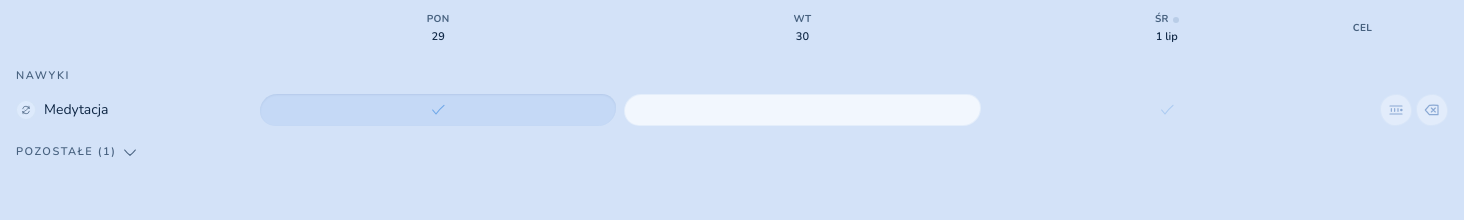
it: AssignmentMatrix › collapsible section starts collapsed and toggles open
Check: the text "Spacer" is not shown
Click the button with test id "matrix-section-rest" at (66, 152), box [12,140,1452,164]
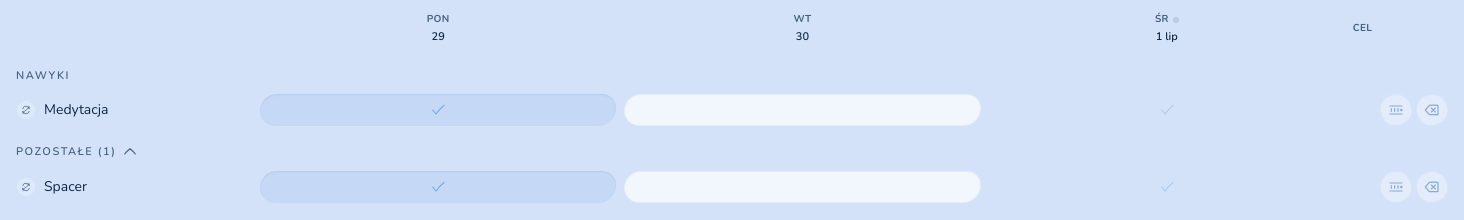
Check: the text "Spacer" is shown, box [44,176,87,196]
